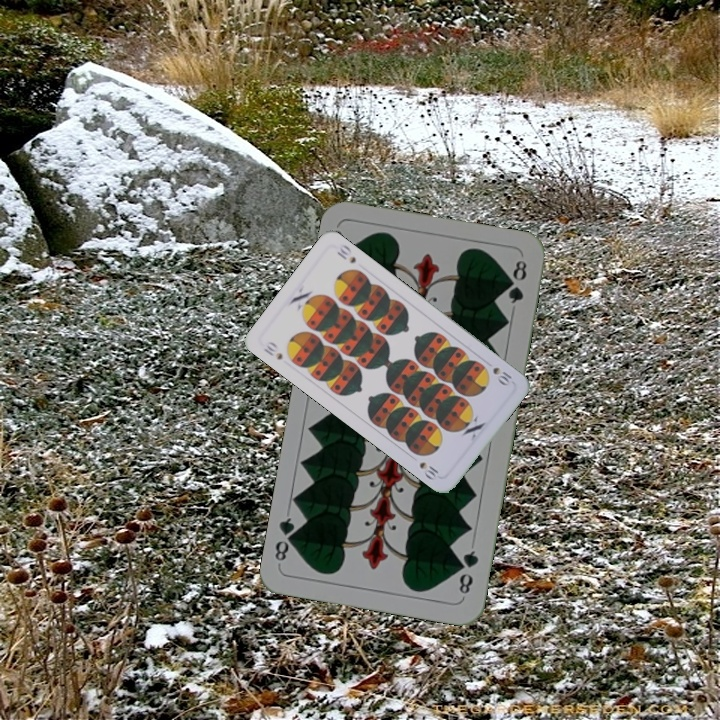G8: (455, 546, 481, 597)
S10: (489, 363, 515, 388), (259, 337, 285, 362)
